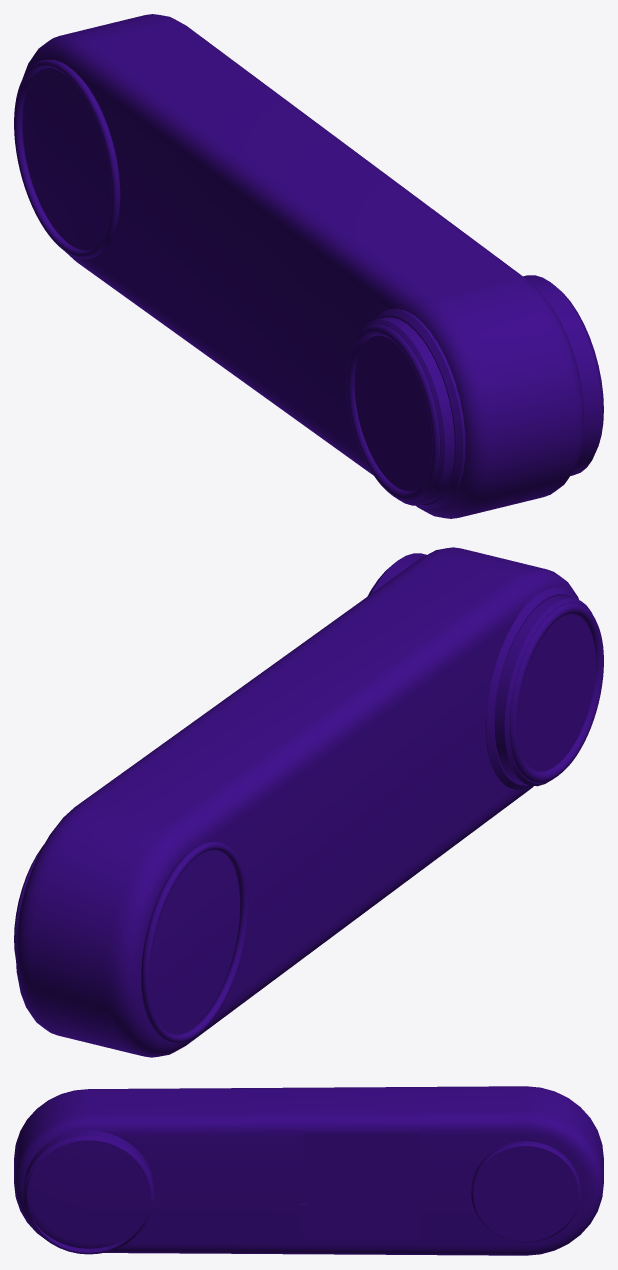
The model's file is arm_03_upperarm.obj.
The picture shows the model from 3 angles, top to bottom: view 1: azimuth 30°, elevation 25°; view 2: azimuth 150°, elevation 25°; view 3: azimuth 270°, elevation 25°; orthographic projection. The views are drawn at different scales.
Parts seen in each view (by area): view 1: Arm_03_UpperArm; view 2: Arm_03_UpperArm; view 3: Arm_03_UpperArm.
Boxes of the visible parts, left/top/right/bottom form: Arm_03_UpperArm: left=14, top=14, right=603, bottom=518; Arm_03_UpperArm: left=14, top=547, right=603, bottom=1057; Arm_03_UpperArm: left=14, top=1086, right=603, bottom=1255.
Size of the model in its own units: 156 by 200 by 756.
